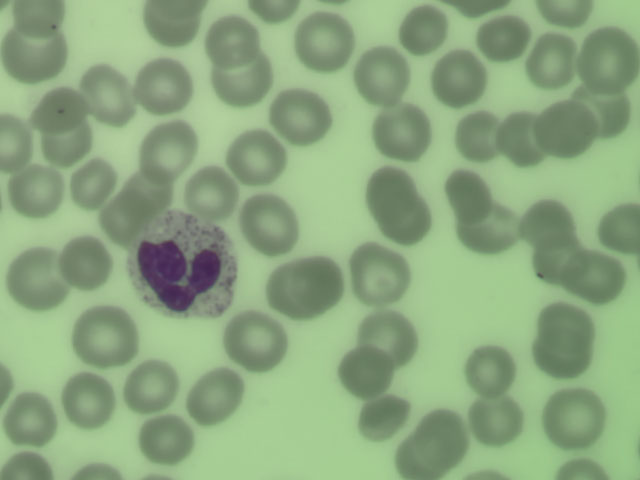RBC: (537, 309, 591, 371), (274, 260, 333, 311), (444, 169, 494, 229), (407, 418, 462, 472), (376, 107, 426, 158), (247, 199, 297, 250), (230, 317, 280, 368), (192, 373, 242, 424), (140, 414, 190, 465), (7, 393, 57, 444), (63, 374, 113, 425), (126, 362, 176, 413), (79, 312, 129, 363), (59, 239, 109, 290), (9, 250, 59, 301), (143, 123, 193, 174), (67, 157, 117, 208), (9, 167, 59, 218), (43, 115, 93, 166), (33, 82, 83, 133), (82, 71, 132, 122), (215, 53, 265, 104), (207, 16, 257, 67), (140, 61, 190, 112), (8, 29, 58, 80), (457, 112, 507, 163), (497, 113, 547, 164), (539, 103, 589, 154), (582, 83, 632, 134), (581, 33, 631, 84), (466, 344, 516, 395), (298, 16, 348, 67), (274, 92, 324, 143), (229, 130, 279, 181), (186, 167, 236, 218), (104, 181, 154, 232), (469, 205, 519, 256), (382, 194, 432, 245), (533, 235, 583, 286), (522, 200, 572, 251), (570, 251, 620, 302), (353, 249, 403, 300), (366, 309, 416, 360), (335, 346, 385, 397), (360, 395, 410, 446), (468, 396, 518, 447), (549, 392, 599, 443), (357, 45, 407, 96), (398, 4, 448, 55), (433, 52, 483, 103), (482, 15, 532, 66), (530, 38, 580, 89), (149, 1, 199, 51), (595, 203, 640, 255), (366, 166, 415, 213), (539, 1, 600, 30), (1, 117, 33, 168), (1, 448, 53, 479), (13, 1, 63, 33), (248, 1, 297, 22)
WBC: (132, 212, 229, 321)
